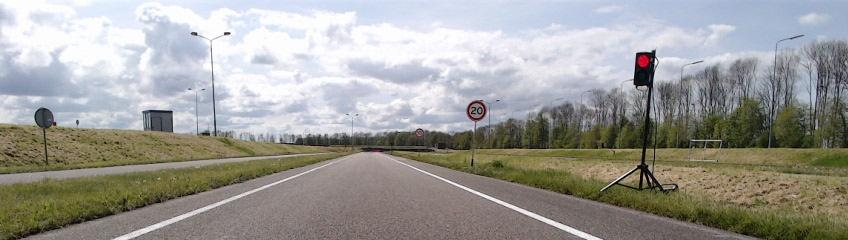Speed-limit-10km-h-: (415, 128, 424, 137)
Speed-limit-20km-h-: (467, 101, 486, 121)
TrafficLight-red: (635, 52, 654, 86)
